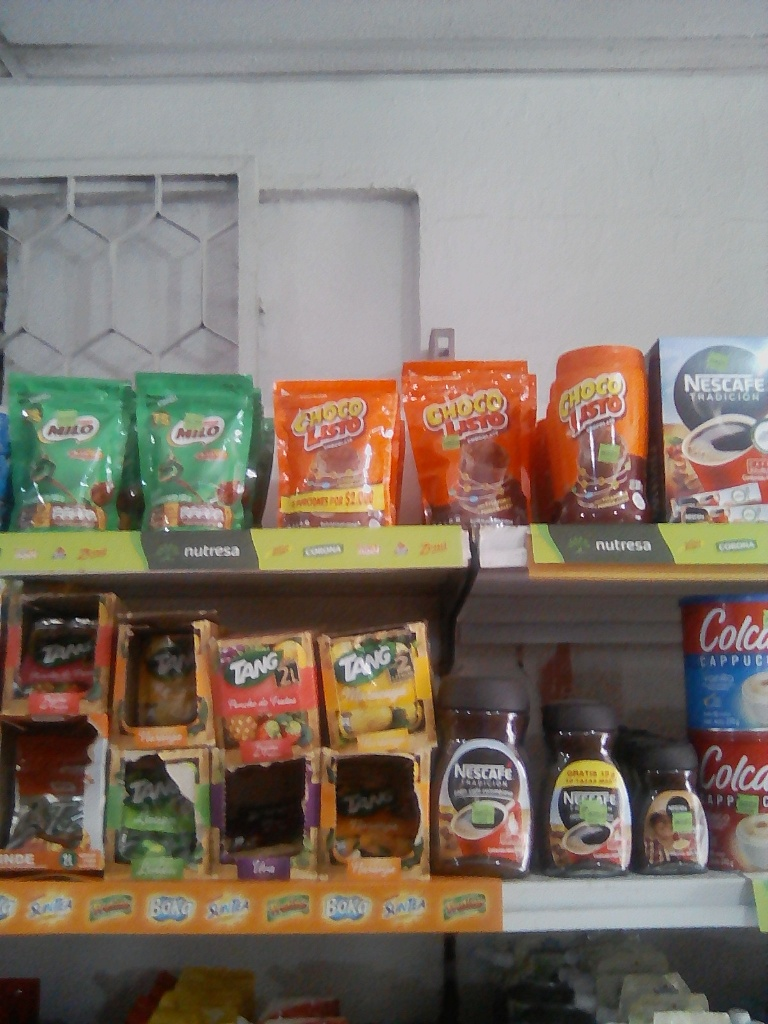COL0170203DYP10000: (3, 367, 126, 531)
